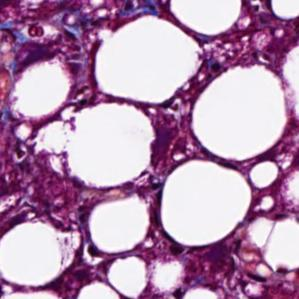inflammation: (23, 20, 84, 60), (75, 241, 108, 269)
